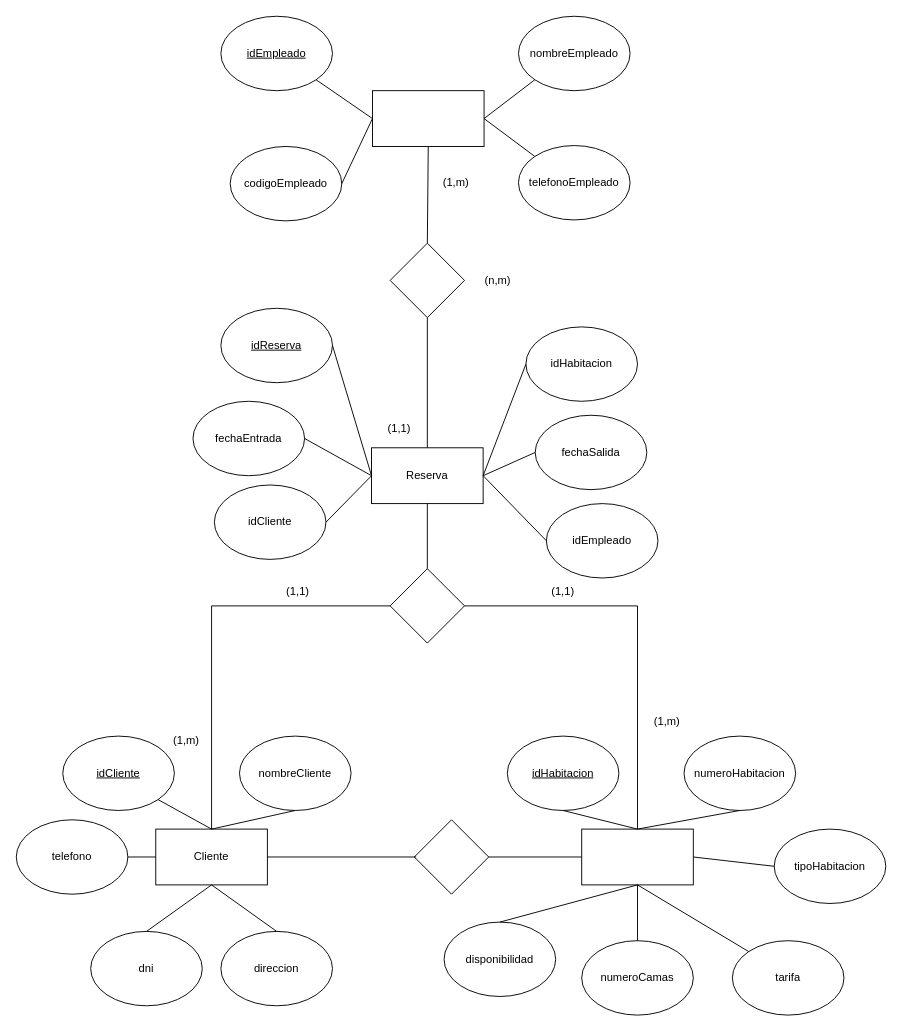
Some shapes in this 902 by 1031 pixel diagram are drawn without their labels. Each missing label, with the centre of its shape:
Empleado: [428,118]
Habitacion: [637,856]
Ocupa: [427,605]
Realiza: [427,280]
Solicita: [451,856]
